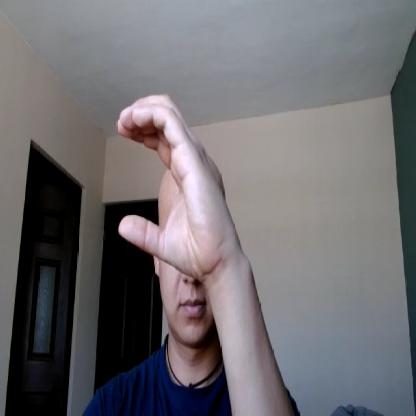C: (118, 93, 229, 277)
